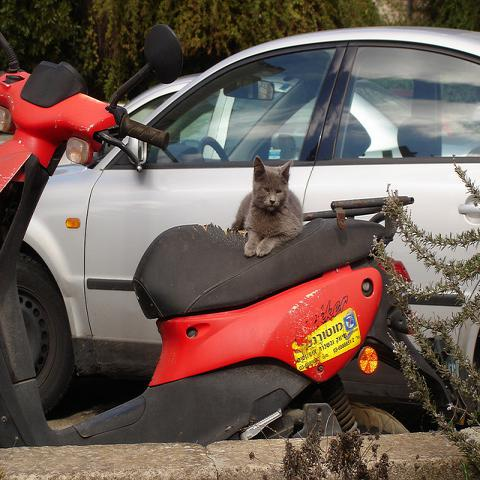car: (17, 25, 479, 405)
motorcycle: (0, 23, 463, 448)
